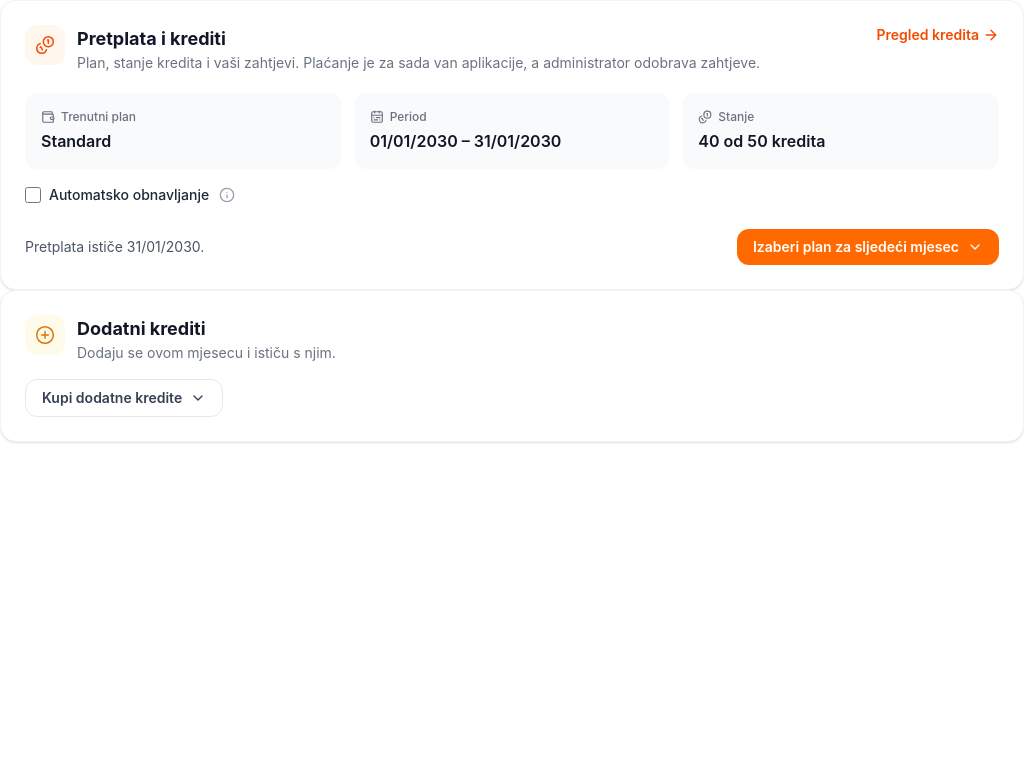
Test: SubscriptionSection › keeps extra credits behind a toggle and closes it after a request
What coordinates should you click on to do the following:
click the button "Kupi dodatne kredite"
I would click on:
 (124, 398)
Its box is [25,379,223,417].
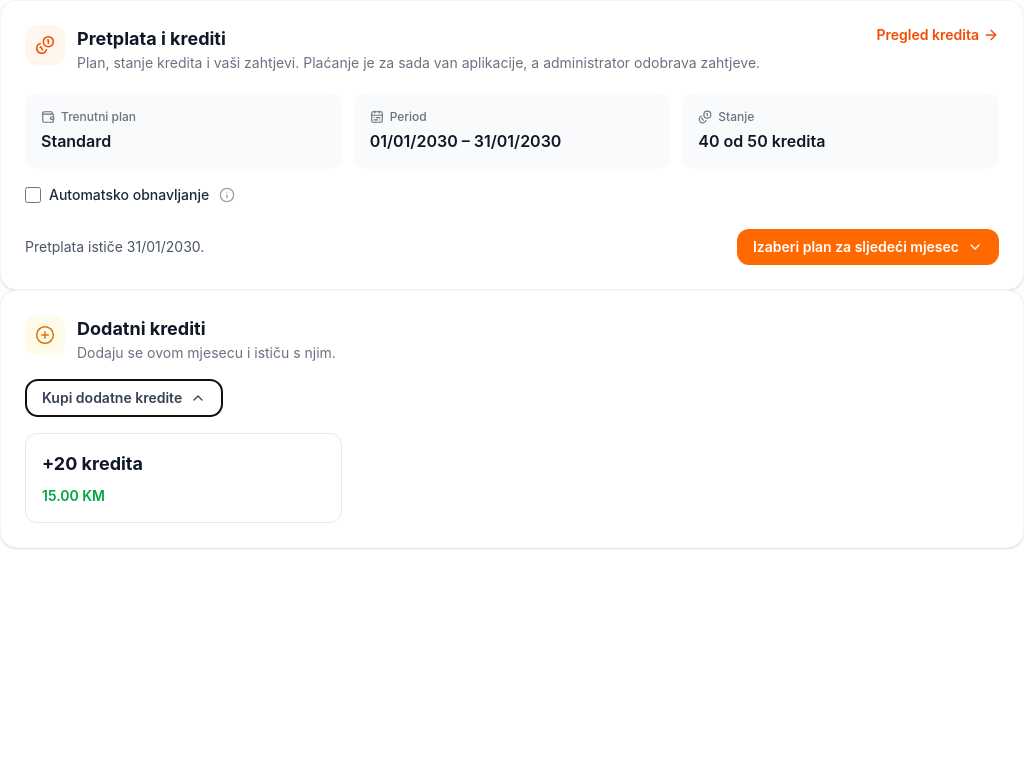
What coordinates should you click on to do the following:
click the button "+20 kredita 15.00 KM"
I would click on:
 (98, 464)
Its box is [25,433,342,523].
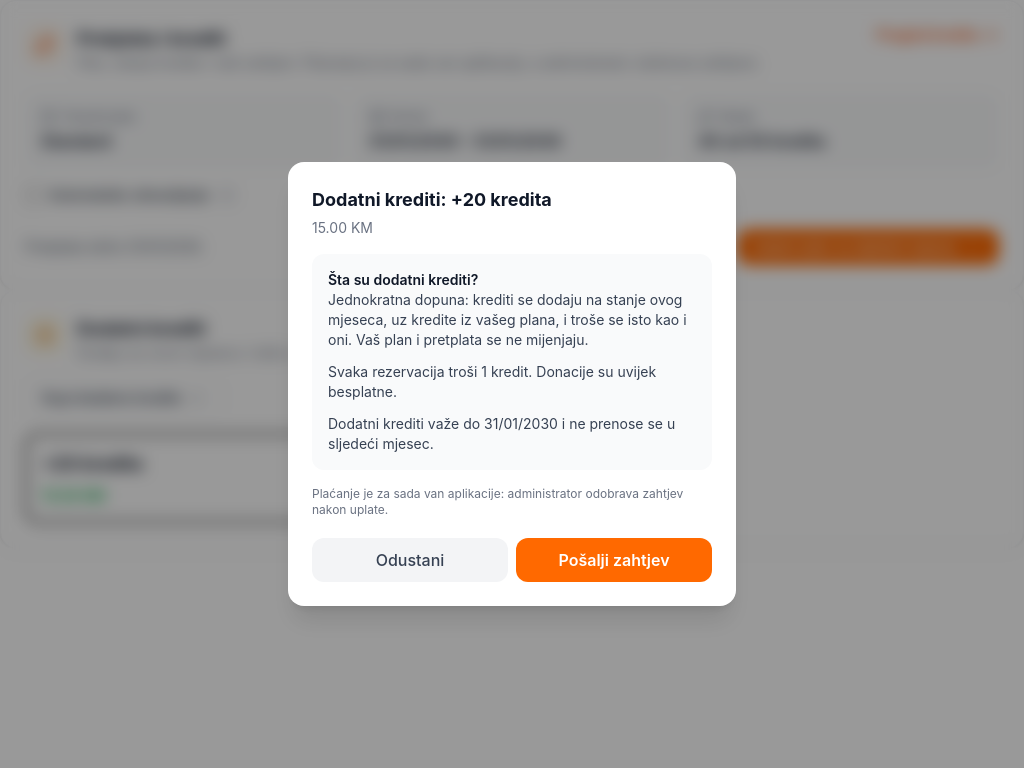
Expected: the dialog shows "Jednokratna dopuna: krediti se dodaju na stanje ovog mjeseca, uz kredite iz vašeg plana, i troše se isto kao i oni. Vaš plan i pretplata se ne mijenjaju.", [328,291,686,348]
Expected: the dialog shows "Svaka rezervacija troši 1 kredit. Donacije su uvijek besplatne.", [328,363,656,400]
What coordinates should you click on to do the following:
click the button "Pošalji zahtjev"
I would click on:
 (614, 560)
Its box is [516,538,712,582].
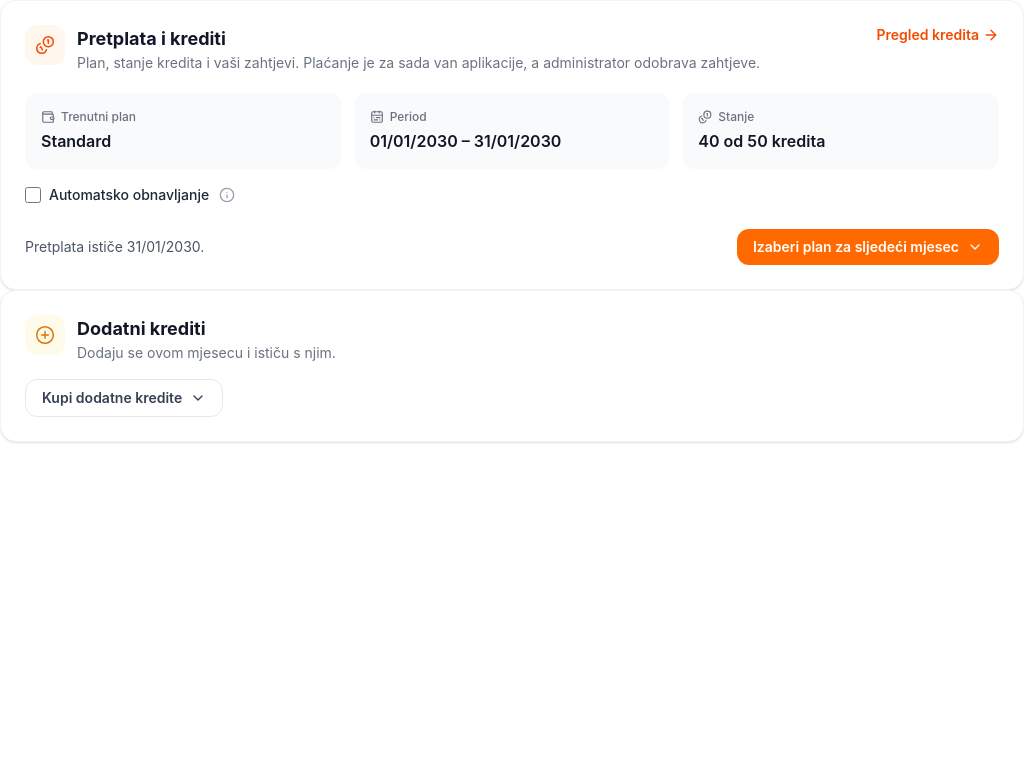
Expected: the dialog is gone
Expected: the button "Kupi dodatne kredite" is collapsed, [25,379,223,417]
